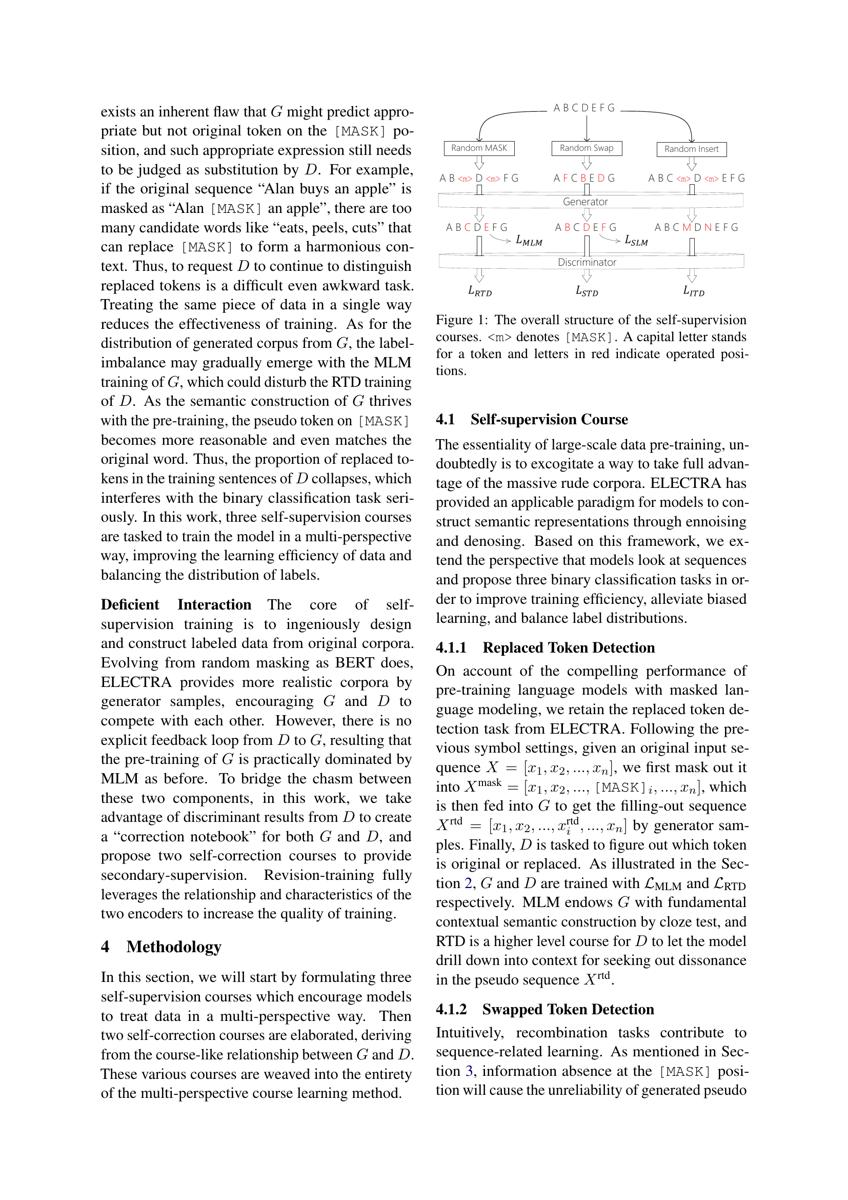figure: (431, 97, 752, 383)
text: (95, 592, 418, 1106), (95, 100, 418, 586), (430, 637, 753, 1102), (430, 406, 753, 629)
